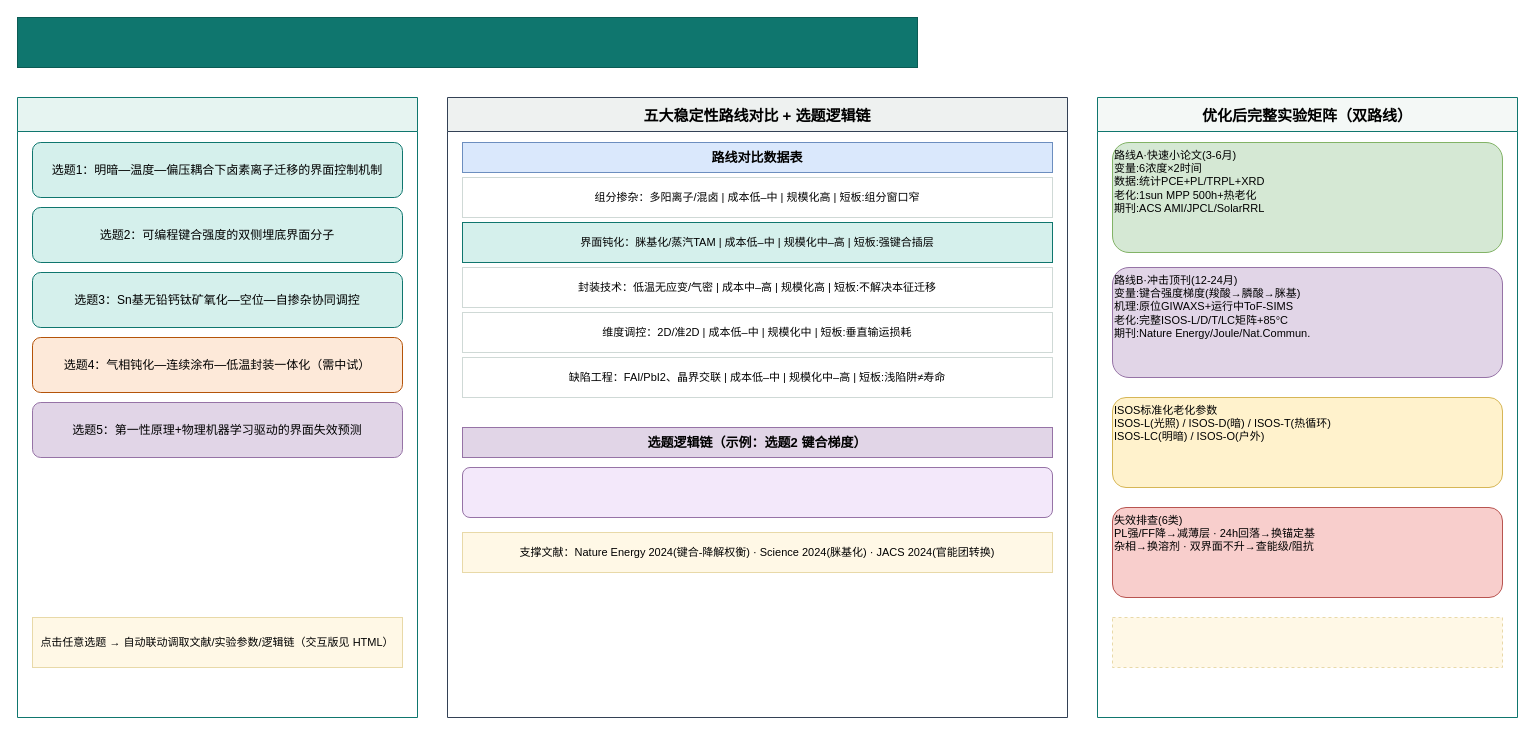
The diagram is 1535 pixels wide and 735 high, and some of its shapes have lost their labels. Here are the shapes that lost their labels. From the top down, the box of each, then its label:
(16, 16, 918, 68): 无限科研画布：钙钛矿稳定性策略三区联动
(16, 96, 418, 718): 博士创新选题清单
(462, 466, 1052, 518): 分子结构 → 吸附能 → 质子转移能垒 → 界面降解 trade-off → 器件寿命
(1112, 616, 1502, 668): 批注区：可添加标记（交互版支持）
